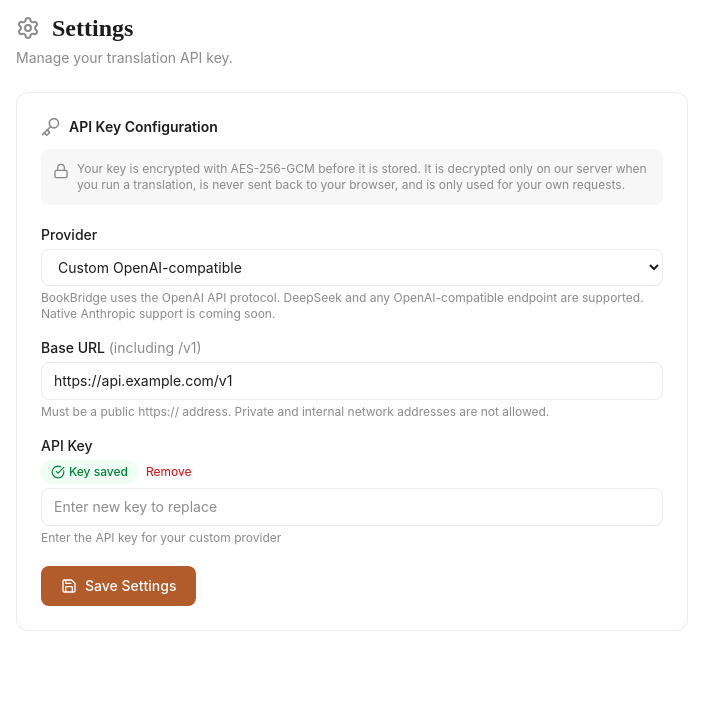
it: Settings page › shows why a base URL was rejected
Check: the text "encrypted with AES-256-GCM" is shown, box [77,161,647,192]
Step 1. Click the button "Save Settings" → point(119, 586), box [41,566,196,606]
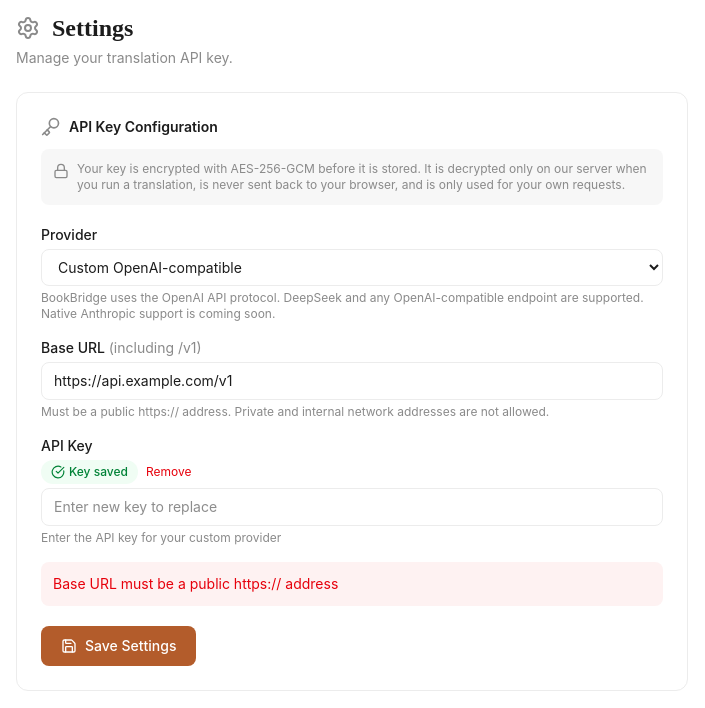
Check: the text "Base URL must be a public https:// address" is shown, box [41,562,663,606]
